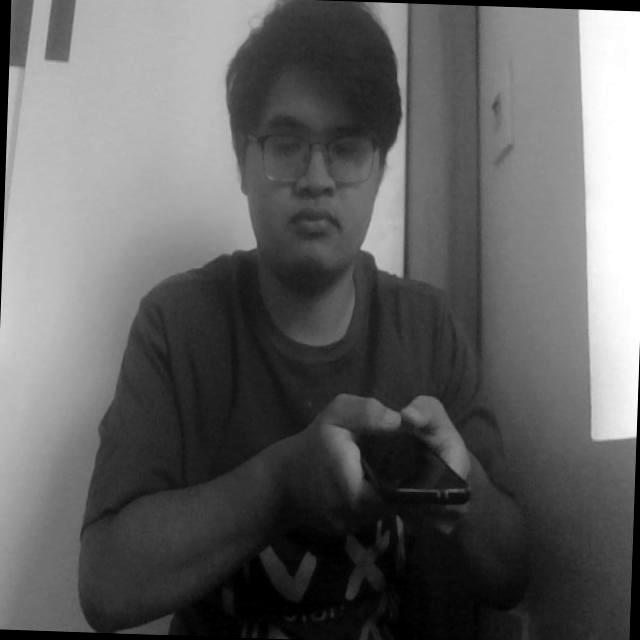phone: (330, 386, 485, 529)
